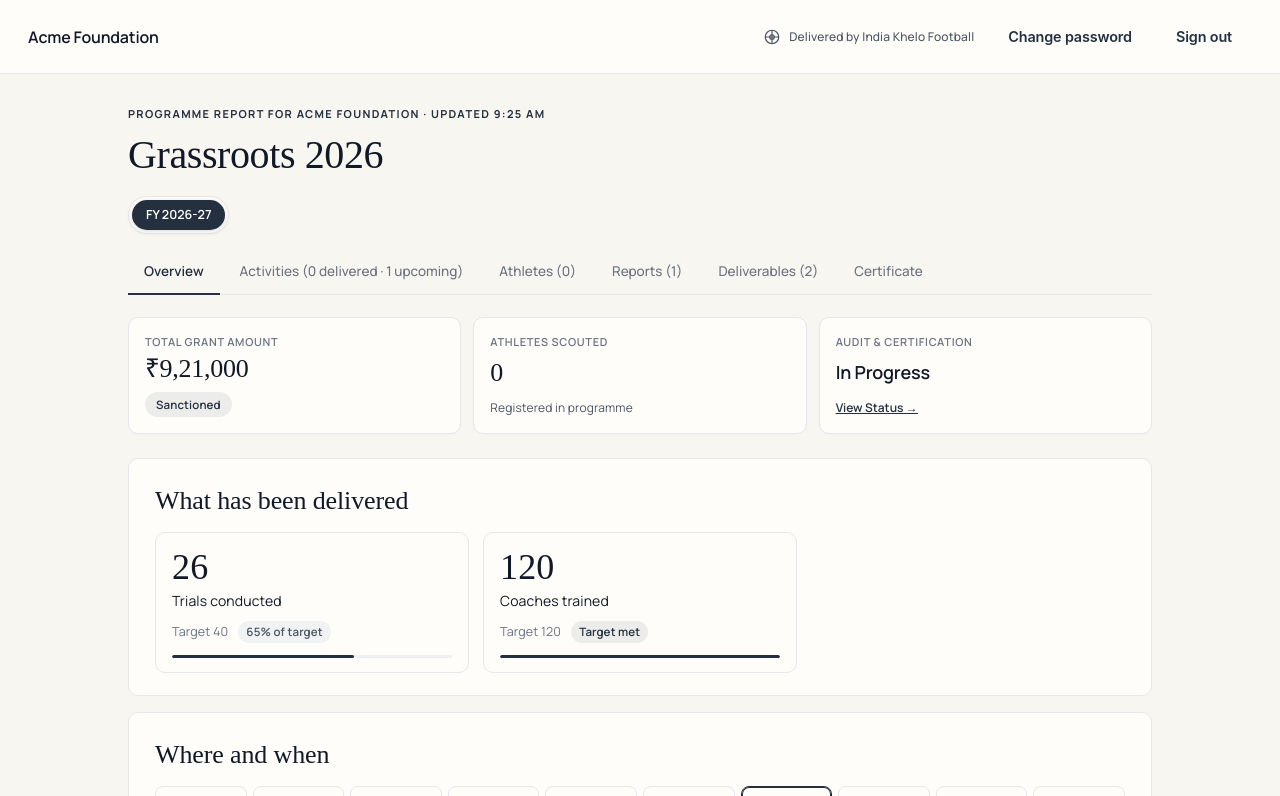
Test: D-030: a finished year shows everything the documents contain › a planned activity shows no photos
Click the tab "Activities (0 delivered · 1 upcoming)" at (351, 272), box [224, 250, 479, 295]
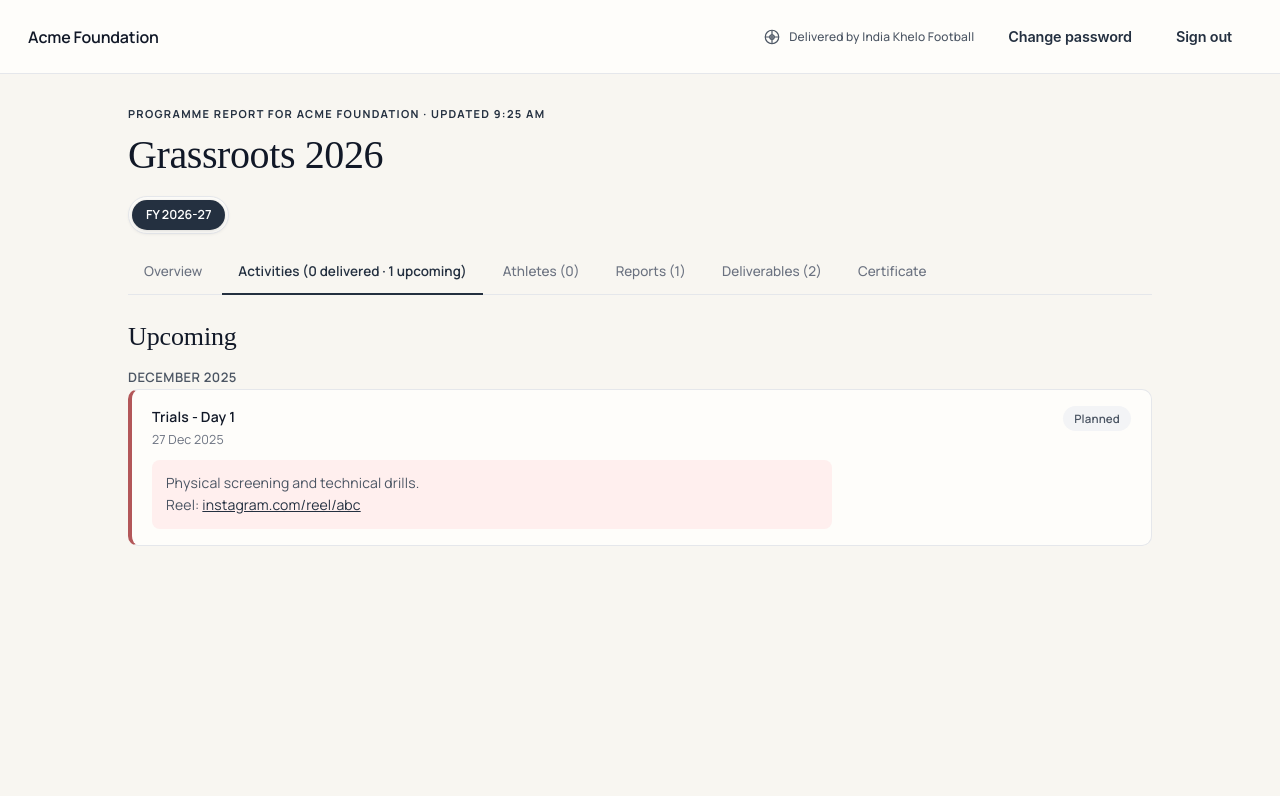
expect the text "Trials - Day 1" is shown: met, box [152, 407, 235, 426]
